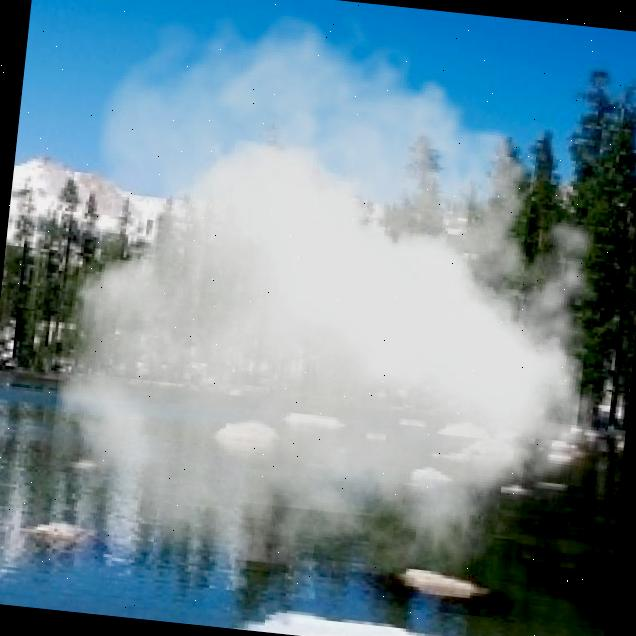smoke: (41, 0, 636, 596)
